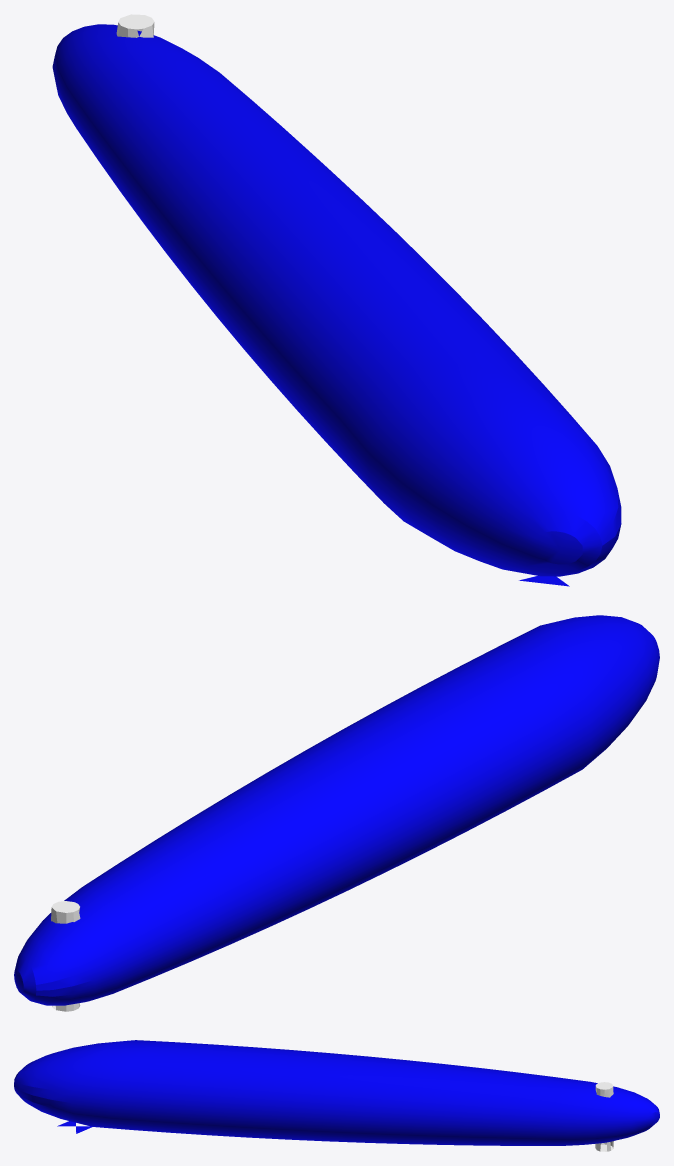
File: leg_left.obj
3 renders of one model, top to bottom at view 1: azimuth 30°, elevation 25°; view 2: azimuth 150°, elevation 25°; view 3: azimuth 270°, elevation 25°, orthographic. The views are drawn at different scales.
Parts seen in each view (by area): view 1: Mesh1 Component_2_1 Model; view 2: Mesh1 Component_2_1 Model; view 3: Mesh1 Component_2_1 Model.
Boxes of the visible parts, x1,y1,x2,y2 form: Mesh1 Component_2_1 Model: (52,14,621,576); Mesh1 Component_2_1 Model: (14,615,659,1011); Mesh1 Component_2_1 Model: (14,1040,659,1151).
Size of the model in its own units: 0.0531 by 0.0301 by 0.223.
